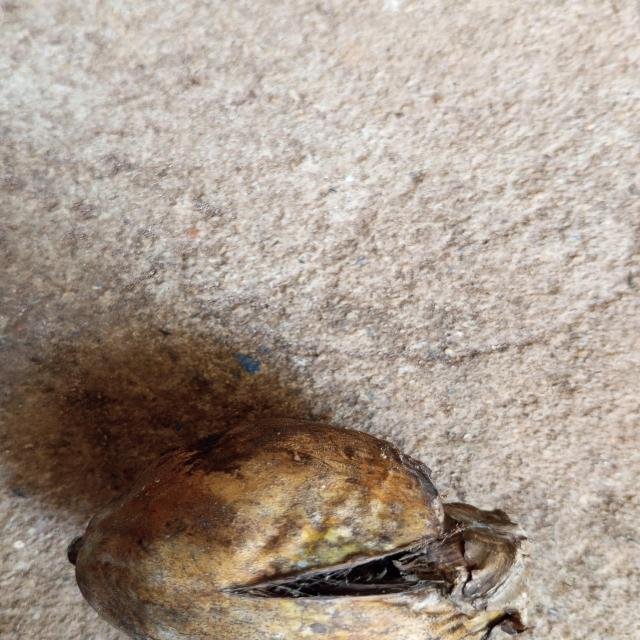damaged: (67, 419, 531, 640)
